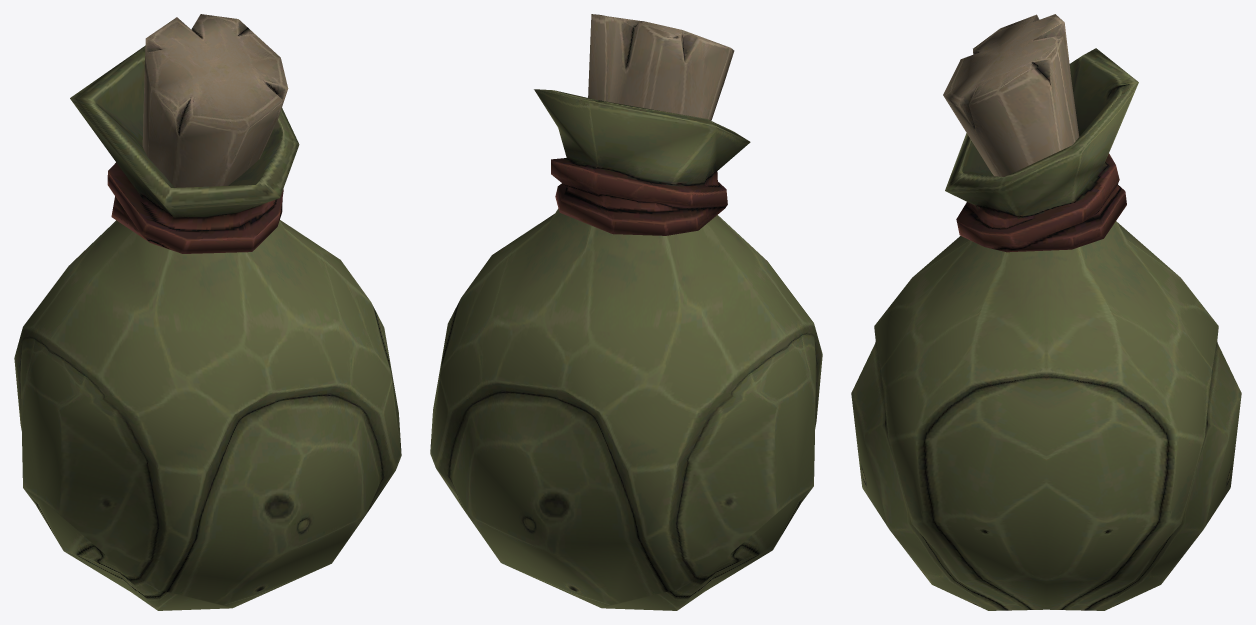
The model's file is bottle.fbx.
The picture shows the model from 3 angles, left to right: view 1: azimuth 30°, elevation 25°; view 2: azimuth 150°, elevation 25°; view 3: azimuth 270°, elevation 25°; orthographic projection.
Visible parts, largest first — view 1: node_id57; view 2: node_id57; view 3: node_id57.
Part boxes in pixels (x1=…): node_id57: x1=14, y1=14, x2=401, y2=610; node_id57: x1=430, y1=14, x2=822, y2=610; node_id57: x1=851, y1=14, x2=1241, y2=610.
Bounding box in the file's own units: 3.15 × 5.16 × 3.21.
1 material, 1 textured.
